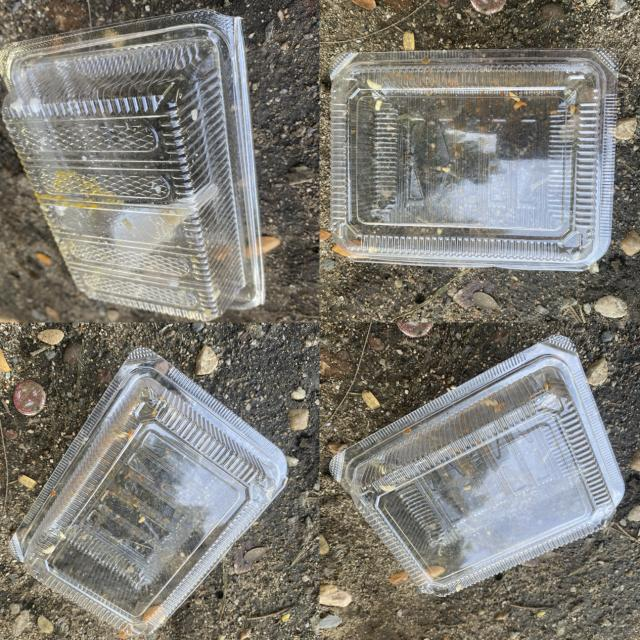plastik: (0, 9, 264, 321), (10, 348, 287, 636), (330, 335, 624, 596), (331, 50, 618, 271)
